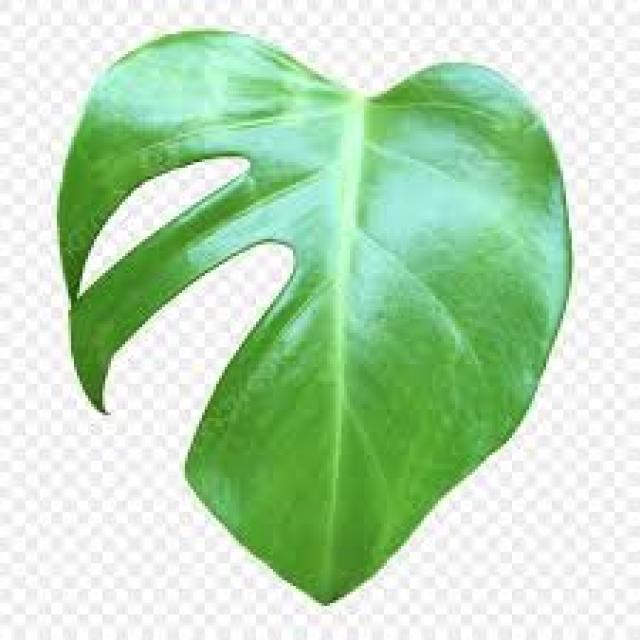leaf: (56, 26, 573, 605)
